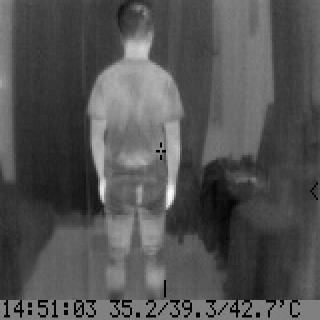Gun: (118, 153, 154, 205)
